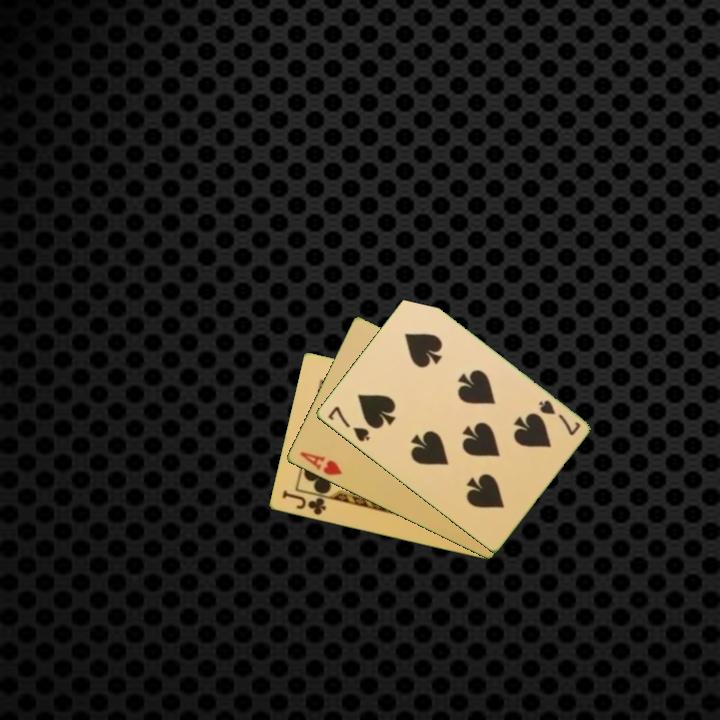7s: (534, 396, 583, 439), (324, 403, 372, 445)
Ah: (296, 448, 345, 479)
Jc: (278, 487, 328, 518)
